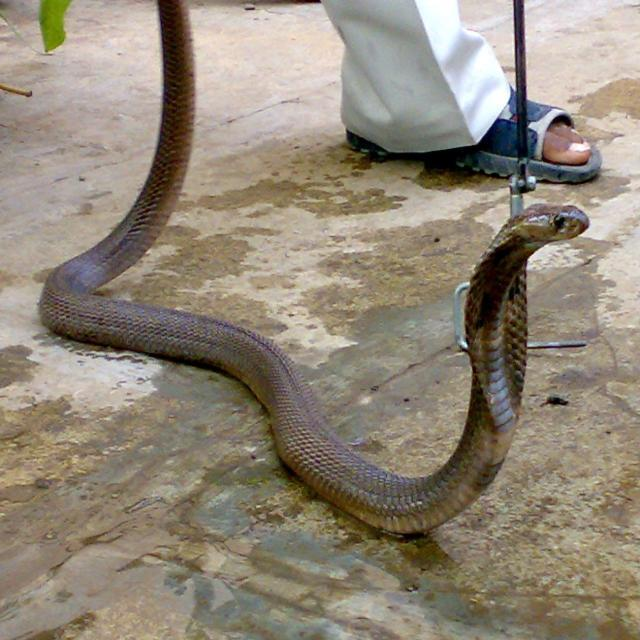Snake: (36, 0, 590, 537)
